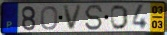4: (131, 3, 149, 31)
8: (21, 5, 37, 32)
O: (110, 5, 130, 31), (40, 5, 59, 31)
S: (84, 4, 104, 32)
V: (63, 4, 84, 32)
